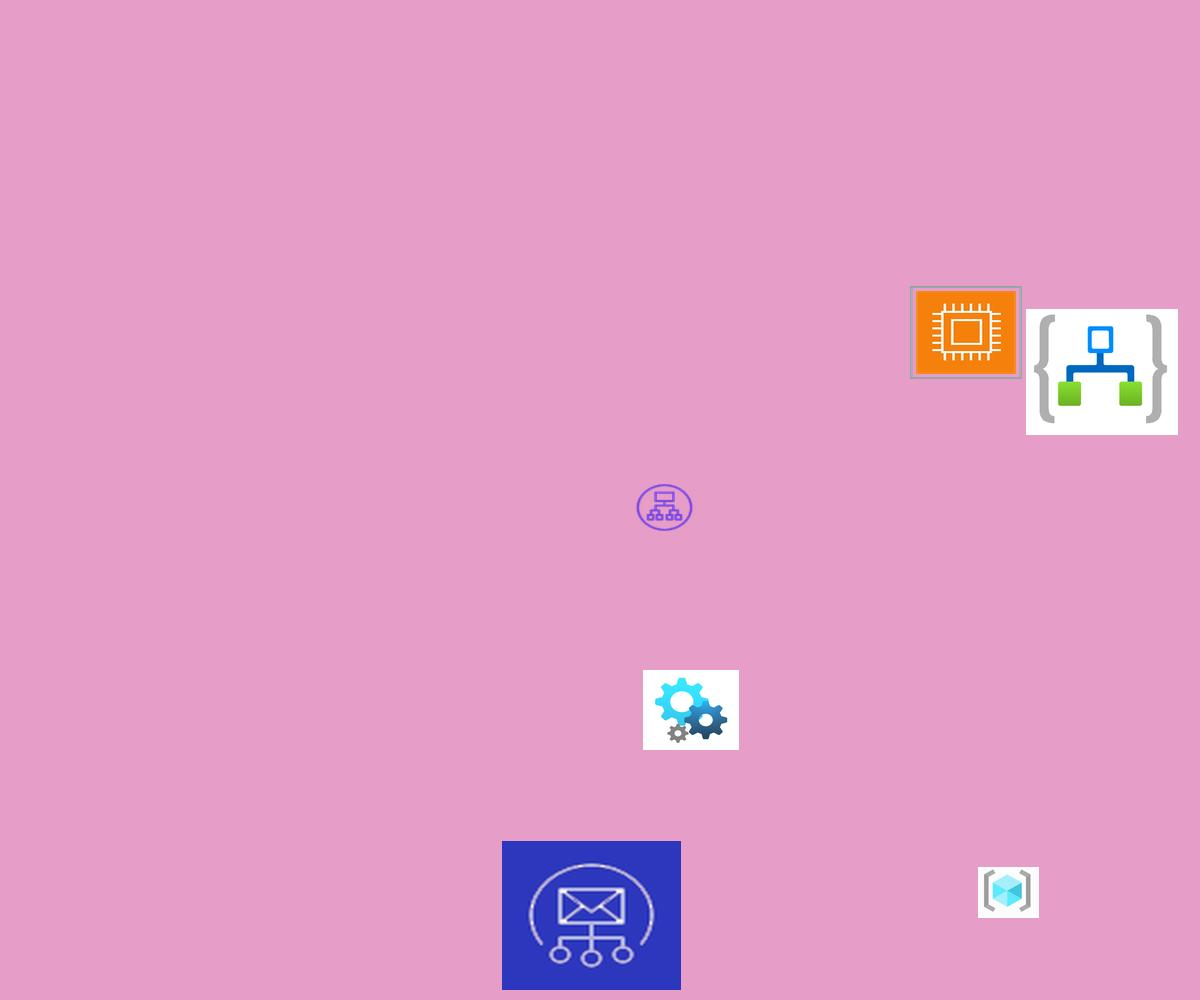AWS-Category_Compute: (910, 286, 1022, 379)
AWS-Res_Elastic-Load-Balancing_Application-Load-Balancer: (634, 482, 695, 533)
AWS-Simple-Email-Service: (502, 841, 681, 990)
Azure_api: (643, 670, 739, 750)
Azure_integration-204-Logic-Apps: (1026, 309, 1178, 435)
Azure_resource_group: (978, 867, 1039, 918)
